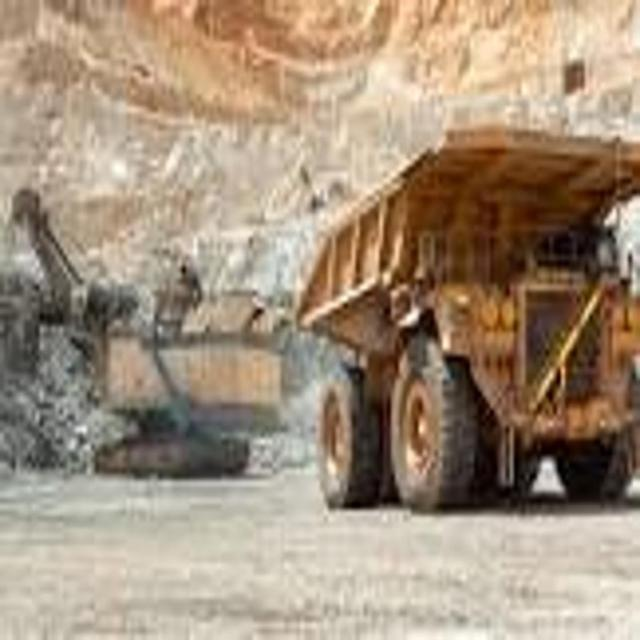dump_truck: (288, 108, 640, 566)
